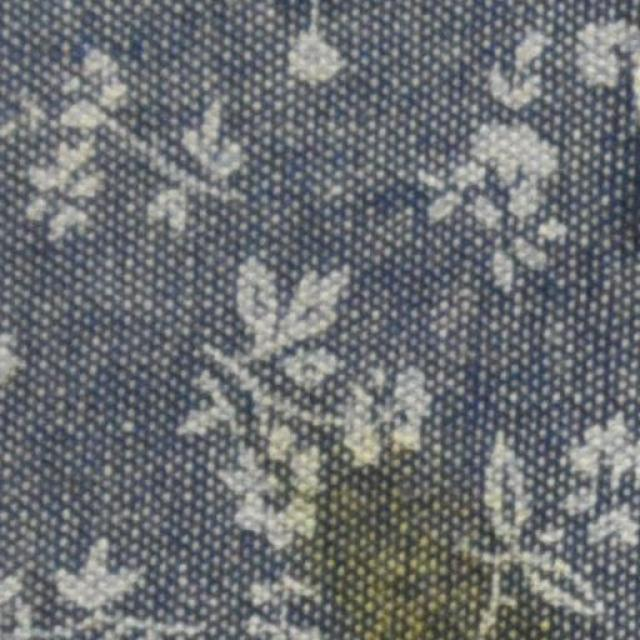Stain: (216, 348, 551, 639)
